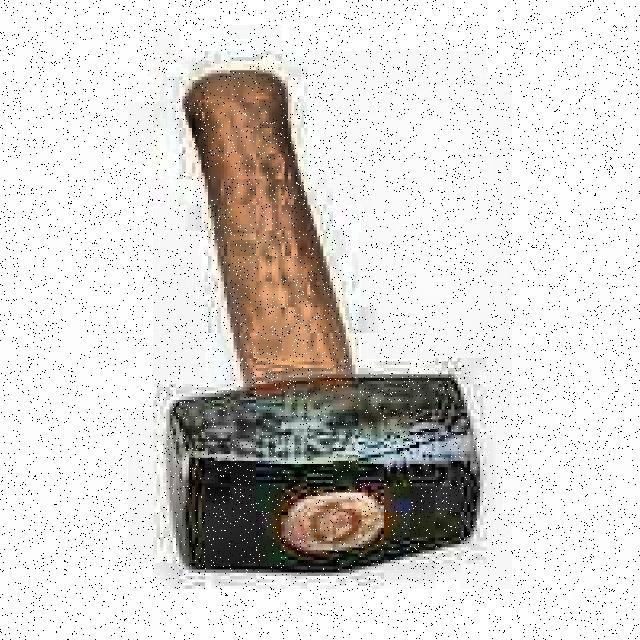hammer: (163, 67, 481, 578)
